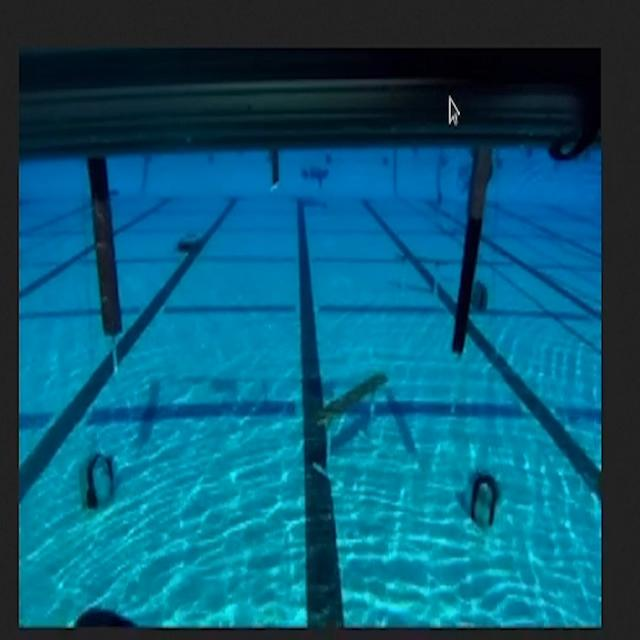Gate: (79, 153, 132, 384), (445, 143, 498, 370)
